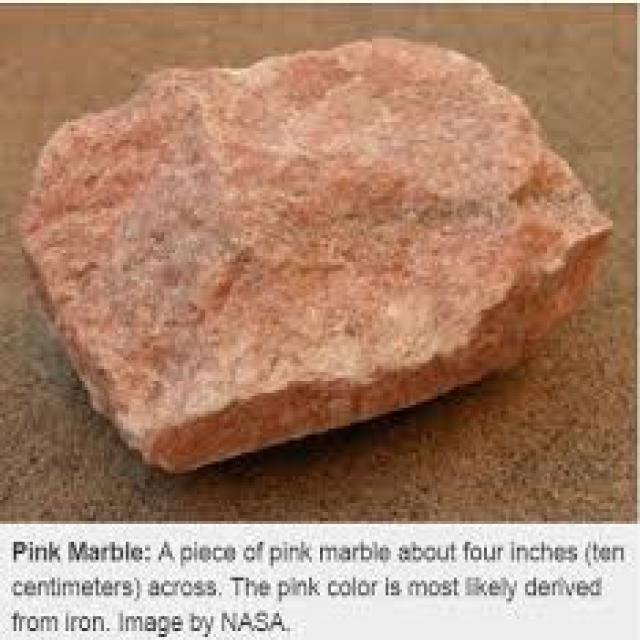Metamorphic: (19, 39, 607, 458)
